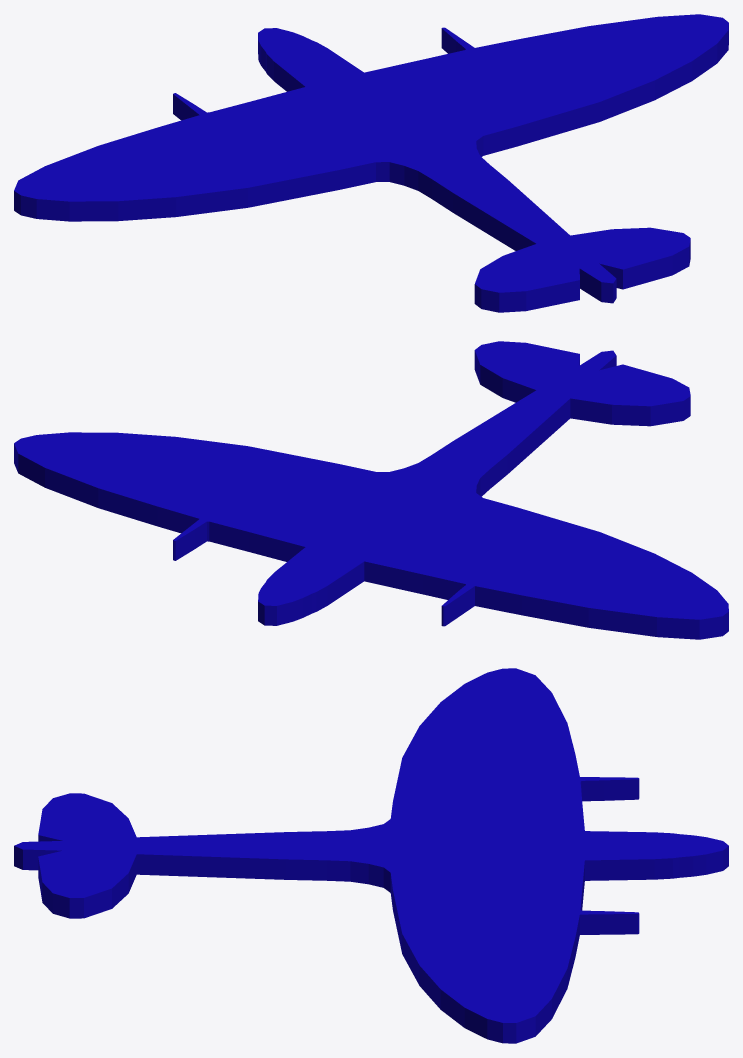
Rendered from PrototypeEngland.fbx.
3 renders of one model, top to bottom at view 1: azimuth 30°, elevation 25°; view 2: azimuth 150°, elevation 25°; view 3: azimuth 270°, elevation 25°, orthographic. The views are drawn at different scales.
Visible parts, largest first — view 1: Vert; view 2: Vert; view 3: Vert.
Part boxes in pixels (x1,y1,x2,y2): Vert: (14, 14, 728, 312); Vert: (14, 341, 728, 639); Vert: (14, 668, 728, 1043).
Bounding box in the file's own units: 494 × 13.3 × 421.
